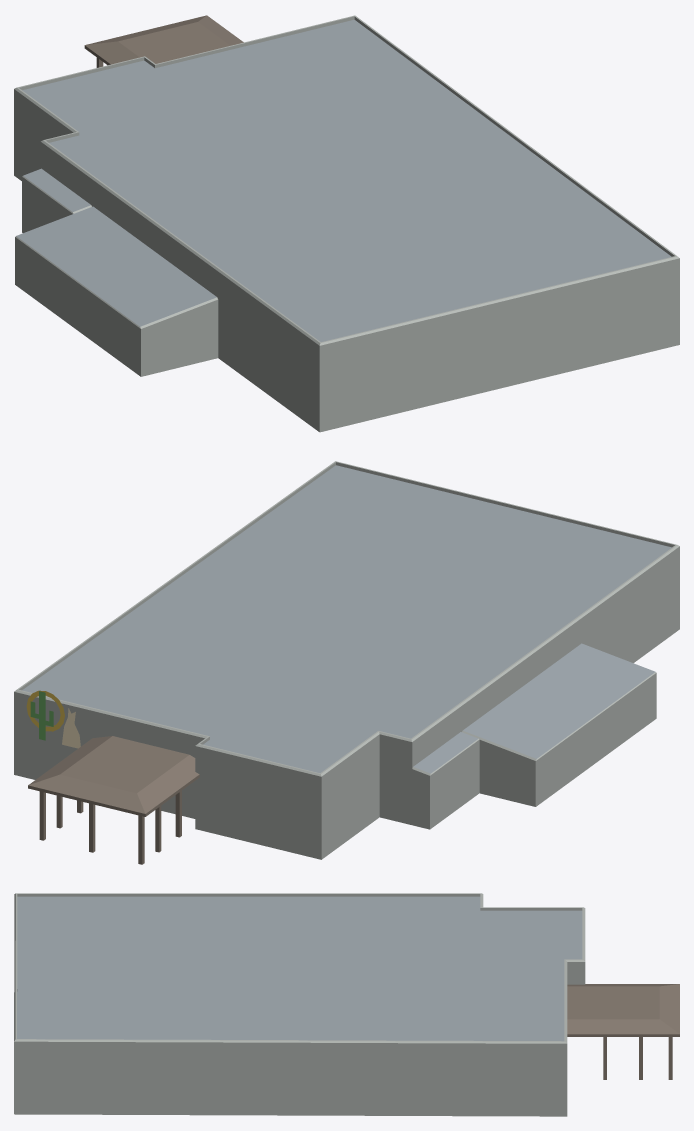
The model's file is coyote-joes.glb.
3 renders of one model, top to bottom at view 1: azimuth 30°, elevation 25°; view 2: azimuth 150°, elevation 25°; view 3: azimuth 270°, elevation 25°, orthographic. The views are drawn at different scales.
Parts seen in each view (by area): view 1: Coyote Joe's; view 2: Coyote Joe's; view 3: Coyote Joe's.
Boxes of the visible parts, x1=… form: Coyote Joe's: x1=14, y1=15, x2=679, y2=432; Coyote Joe's: x1=14, y1=461, x2=679, y2=864; Coyote Joe's: x1=14, y1=893, x2=679, y2=1116.
Size of the model in its own units: 43 by 8.9 by 66.75.
